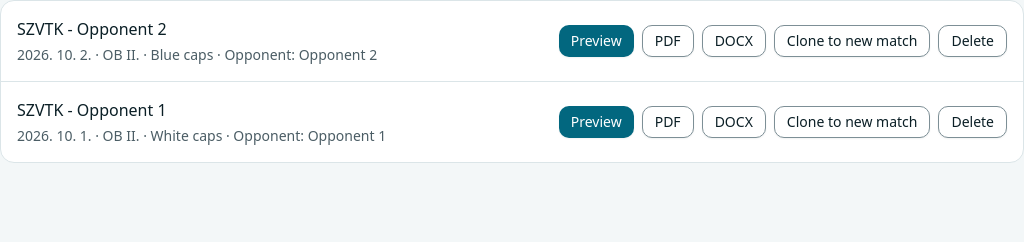
Scenario: SavedLineups › reloads the list when a download finds the lineup gone
Click the button with aria-label "Download SZVTK - Opponent 1 as PDF" at (668, 122), box [642, 106, 694, 138]
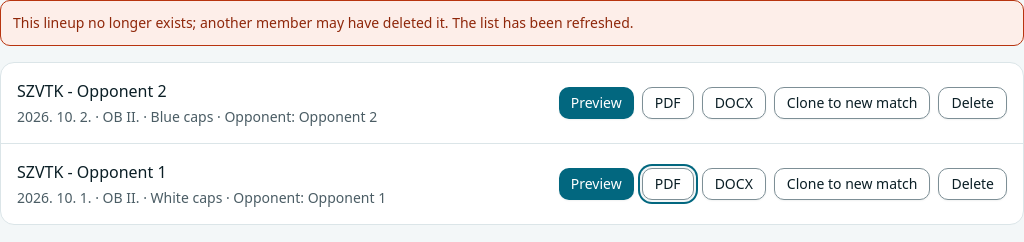
Expected: the message shows "This lineup no longer exists", [13, 13, 634, 32]
